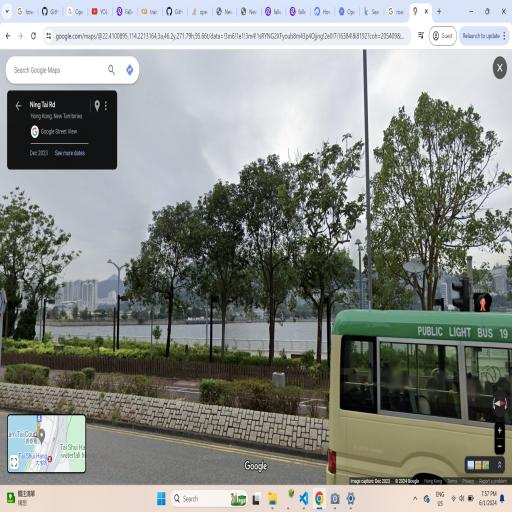Roads: (87, 402, 310, 481)
Trees: (140, 197, 191, 349), (195, 185, 236, 357), (256, 167, 291, 364), (304, 155, 333, 358), (12, 196, 44, 339)
